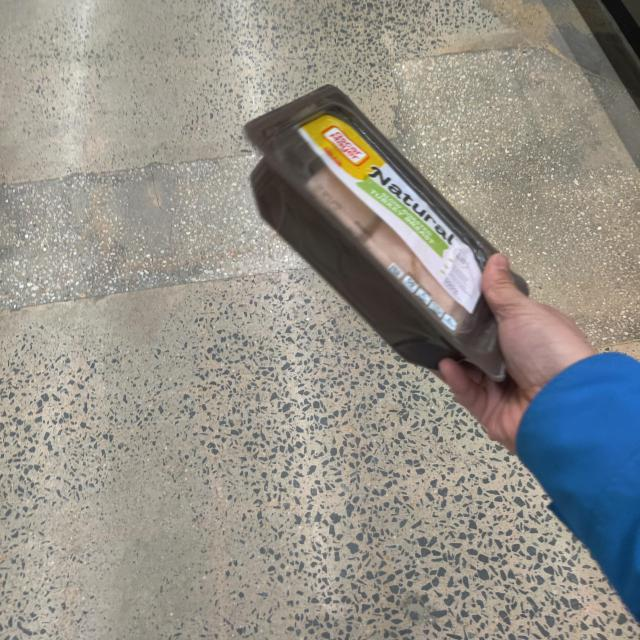Meat: (218, 66, 550, 401)
